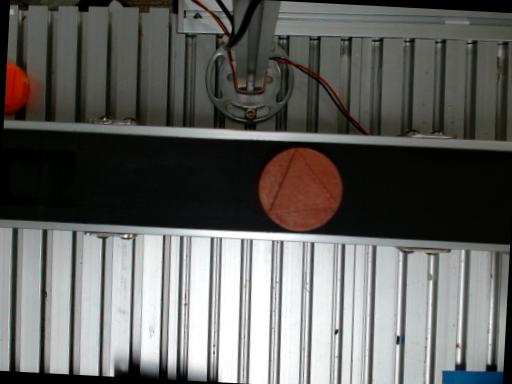Brown_Waper: (258, 148, 342, 231)
Not_Square: (268, 149, 338, 212)
